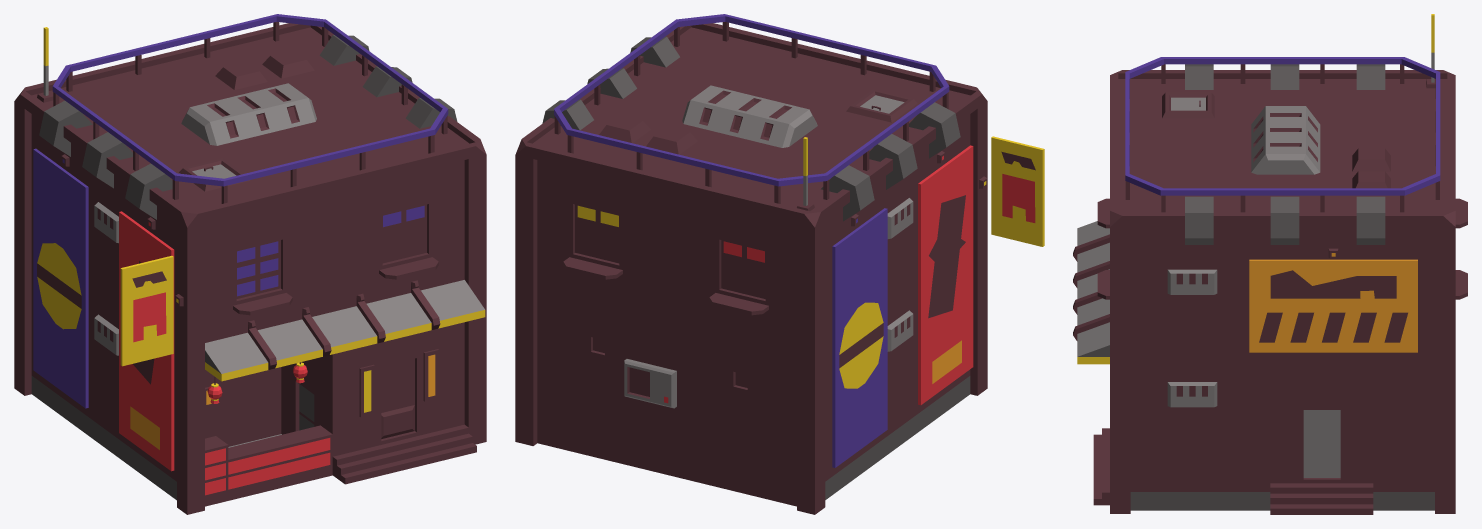
The model's file is scifi-building-shop.fbx.
3 renders of one model, left to right at view 1: azimuth 30°, elevation 25°; view 2: azimuth 150°, elevation 25°; view 3: azimuth 270°, elevation 25°, orthographic.
Parts seen in each view (by area): view 1: scifi-building-shop; view 2: scifi-building-shop; view 3: scifi-building-shop.
Part boxes in pixels (x1,y1,x2,y2): scifi-building-shop: [14, 14, 486, 514]; scifi-building-shop: [515, 14, 1044, 514]; scifi-building-shop: [1073, 14, 1467, 514].
Bounding box in the file's own units: 10.4 × 9.75 × 9.6.
